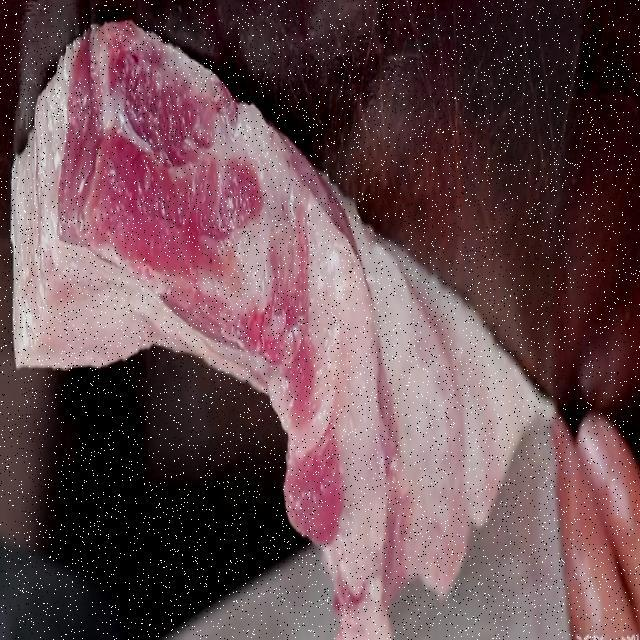pork: (9, 17, 528, 628)
